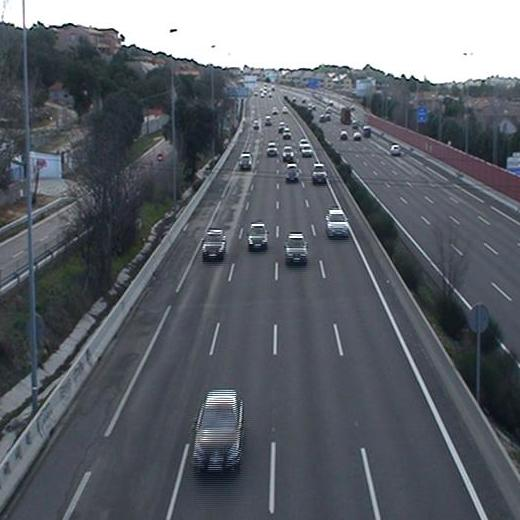car: (189, 387, 244, 477), (283, 230, 310, 266), (200, 228, 227, 262), (323, 208, 350, 238), (247, 221, 268, 253), (312, 162, 328, 186), (237, 152, 255, 171), (285, 163, 300, 182), (265, 142, 279, 158), (281, 145, 295, 161), (301, 144, 313, 157)
